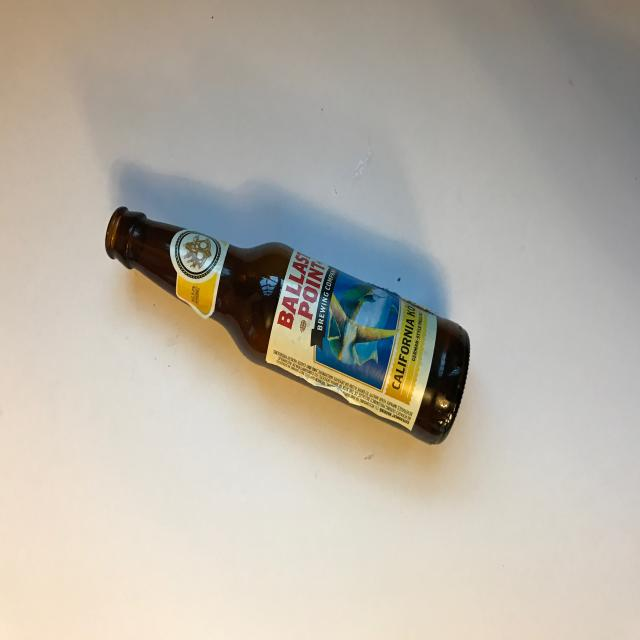glass: (104, 204, 471, 446)
